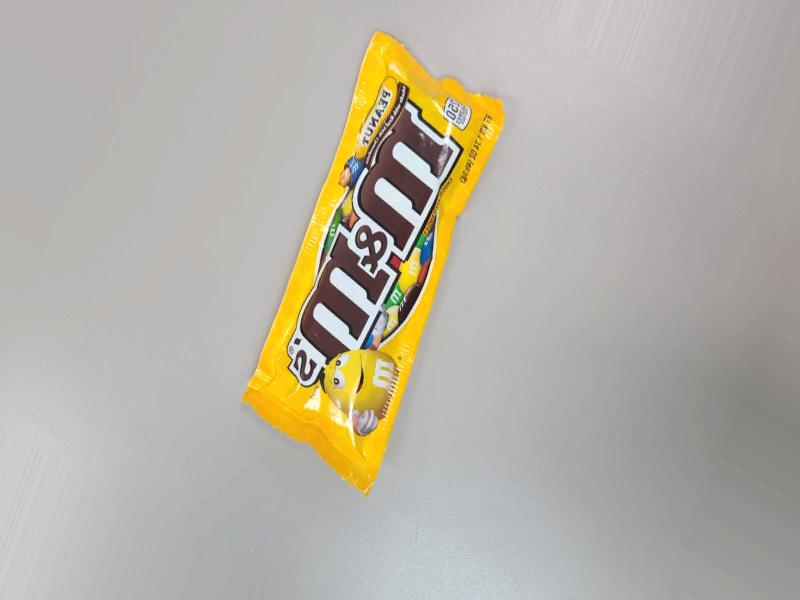m&m: (274, 50, 482, 507)
